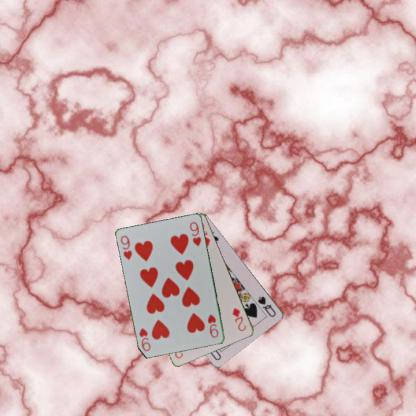2d: (230, 305, 247, 332)
9h: (118, 233, 133, 261), (205, 312, 220, 339)
Qs: (255, 293, 277, 318)
